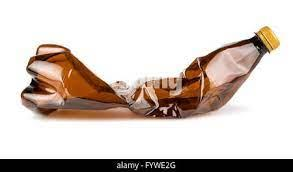plastic: (27, 27, 282, 116)
